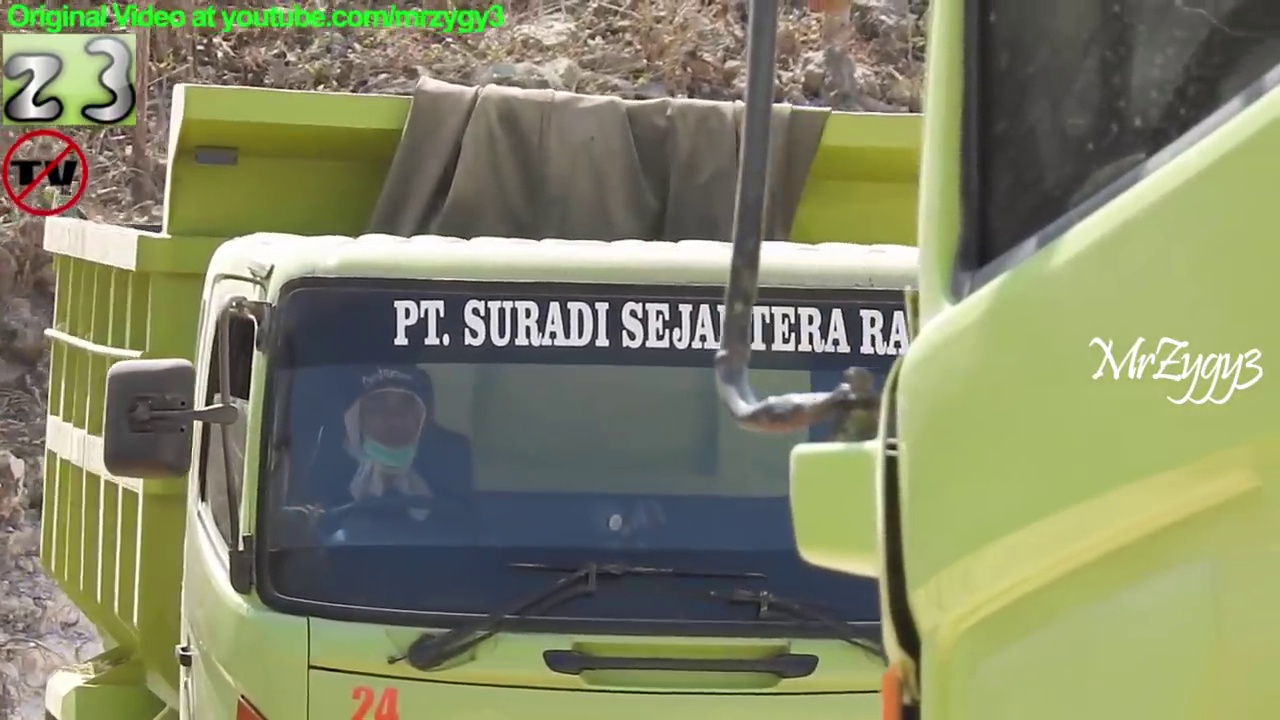truck: (28, 73, 1195, 720), (682, 1, 1280, 720)
